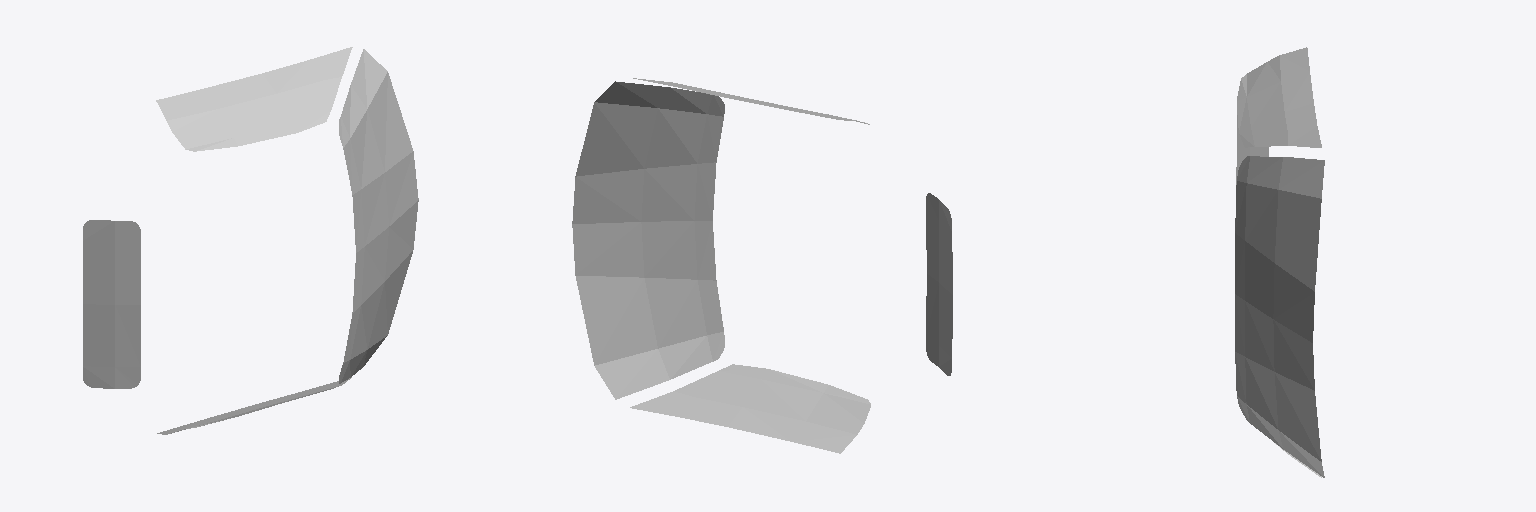
The model's file is windows.obj.
3 renders of one model, left to right at view 1: azimuth 30°, elevation 25°; view 2: azimuth 150°, elevation 25°; view 3: azimuth 270°, elevation 25°, orthographic.
Parts seen in each view (by area): view 1: default; view 2: default; view 3: default.
Part boxes in pixels (x1,y1,x2,y2): default: (83,47,418,434); default: (572,78,952,453); default: (1235,47,1324,477).
Bounding box in the file's own units: 1.64 × 1.46 × 0.3558.